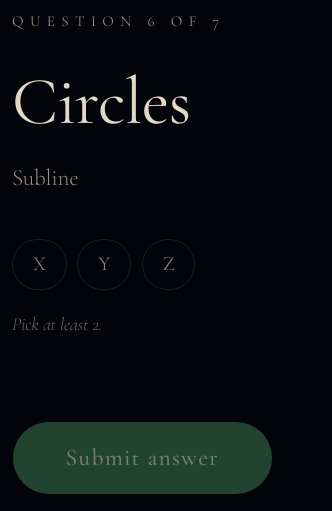
RegistrationQuestionStep › requires minSelect picks before submitting (multi)
This screenshot has width=332, height=511.
Expected: the button "Submit answer" is disabled, x1=12 y1=421 x2=272 y2=495
Click the button "X".
click(39, 265)  # box x1=12 y1=239 x2=67 y2=290
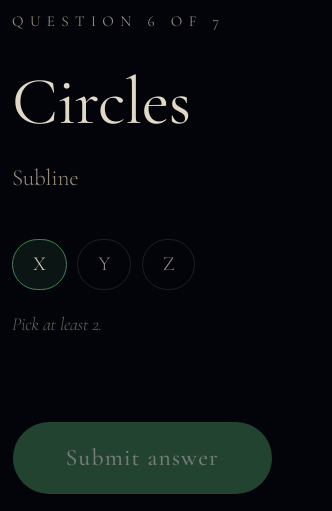
Expected: the button "Submit answer" is disabled, x1=12 y1=421 x2=272 y2=495
Click the button "Y".
click(104, 265)  # box x1=77 y1=239 x2=131 y2=290
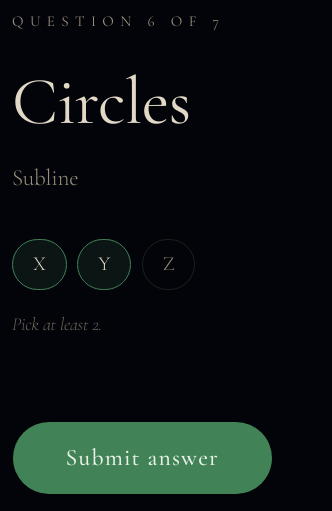
Result: the button "Submit answer" is enabled at x1=12 y1=421 x2=272 y2=495
